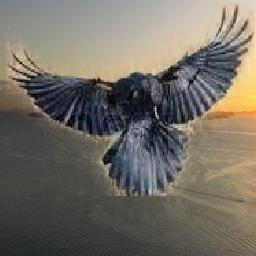Crow: (7, 4, 256, 197)
